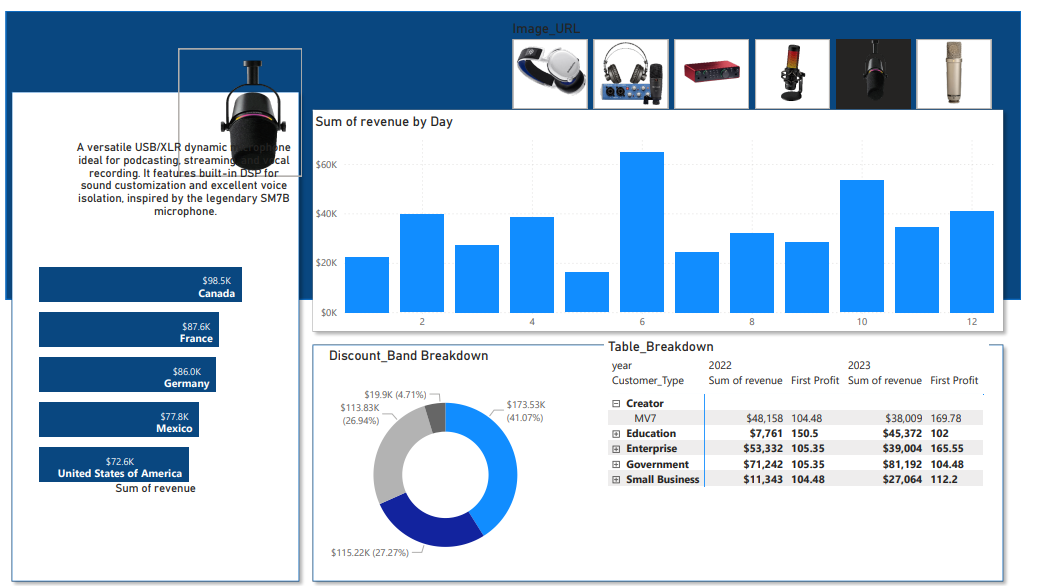

This screenshot's page, from the dashboard's own definition file:
{"tool":"powerbi","page":{"name":"Page 1","canvas":[1280,720],"ordinal":0},"visuals":[{"type":"shape","box":[10.5,0,1269.5,359.9],"z":0},{"type":"shape","box":[10.1,92.2,375.8,627.8],"z":1000},{"type":"shape","box":[386.1,407.6,879.6,312.8],"z":2000},{"type":"shape","box":[386.1,114.4,879.6,293.2],"z":3000},{"type":"advancedSlicerVisual","fields":{"Values":["Query1.Image_URL"]},"box":[640,10.7,611.4,116.2],"z":4000},{"type":"cardVisual","fields":{"Data":["Min(Query1.Product)"]},"box":[221.8,41.8,164.2,169.9],"z":5000},{"type":"card","fields":{"Values":["Min(Query1.Description)"]},"box":[85,60.5,301,301],"z":6000},{"type":"clusteredBarChart","fields":{"Category":["Query1.Country"],"Y":["Sum(Query1.revenue)"]},"box":[48.3,307.5,300.3,300.3],"z":7000},{"type":"columnChart","fields":{"Y":["Sum(Query1.revenue)"],"Category":["Query1.Date.Variation.Date Hierarchy.Year","Query1.Date.Variation.Date Hierarchy.Quarter","Query1.Date.Variation.Date Hierarchy.Month","Query1.Date.Variation.Date Hierarchy.Day"]},"box":[393.1,126.7,858.2,279.4],"z":7001},{"type":"donutChart","title":" Discount_Band Breakdown","fields":{"Category":["Query1.Discount_Band"],"Y":["Sum(Query1.revenue)"]},"box":[410.4,419,301,301],"z":7002},{"type":"pivotTable","title":"Table_Breakdown","fields":{"Rows":["Query1.Customer_Type","Query1.Product"],"Columns":["Query1.year"],"Values":["Sum(Query1.revenue)","Min(Query1.Profit)"]},"box":[758.9,407.5,481,301],"z":7003}]}

Visuals, with their boxes in screenshot pixels (x1, y1, x2, y2), scaled from the page's 1280x720 canvas onto the 1038x586 screenshot:
shape: 9 0 1037 293
shape: 8 75 313 585
shape: 313 332 1026 585
shape: 313 93 1026 332
advancedSlicerVisual - Query1.Image_URL: 519 9 1015 103
cardVisual - Min(Query1.Product): 180 34 313 172
card - Min(Query1.Description): 69 49 313 294
clusteredBarChart - Query1.Country x Sum(Query1.revenue): 39 250 283 495
columnChart - Sum(Query1.revenue) x Query1.Date.Variation.Date Hierarchy.Year: 319 103 1015 331
" Discount_Band Breakdown" donutChart: 333 341 577 585
"Table_Breakdown" pivotTable: 615 332 1005 577
